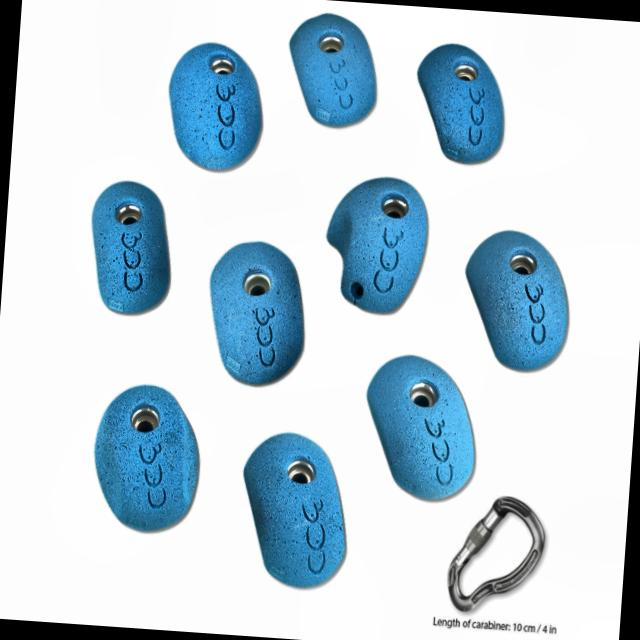Hold: (230, 427, 354, 592), (358, 353, 487, 503), (460, 220, 580, 374), (318, 164, 434, 321), (90, 380, 204, 537), (200, 240, 312, 393), (409, 36, 519, 170), (162, 36, 268, 172), (82, 175, 184, 316), (282, 8, 386, 134)
